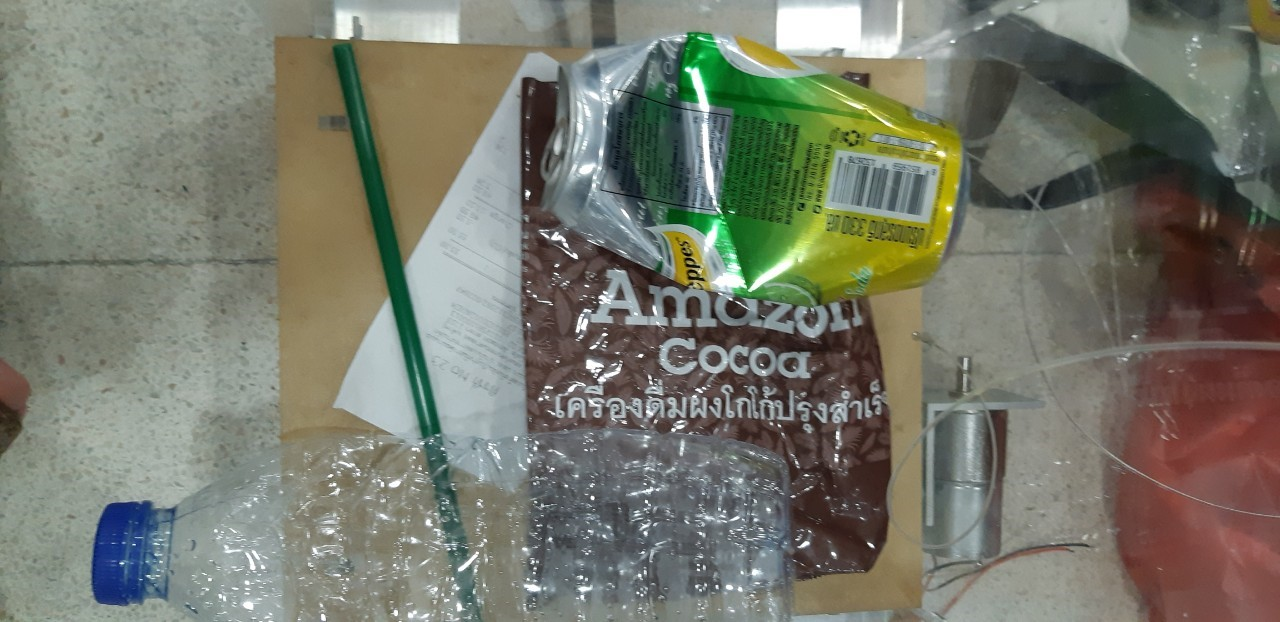AlCan: (539, 32, 970, 306)
Others: (330, 42, 526, 432), (524, 268, 878, 433), (329, 45, 448, 429)
PlasticBottle: (92, 429, 794, 622)
